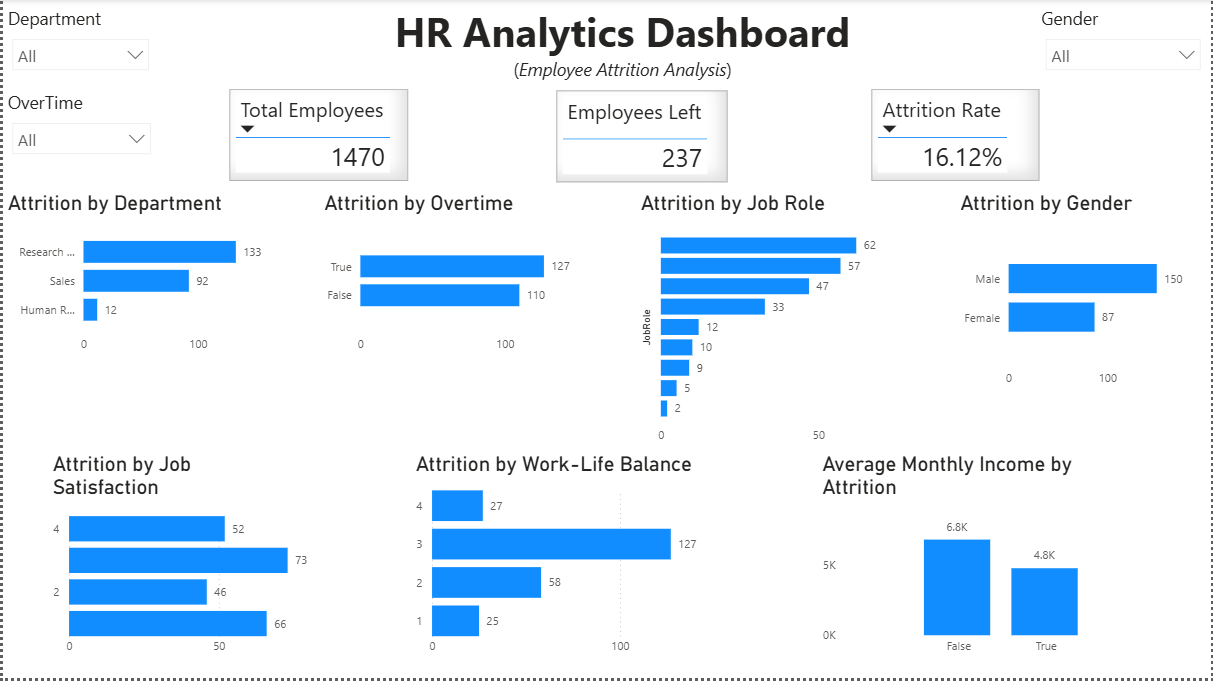

Layout of this report page (visuals, bound fields, positions):
{"tool":"powerbi","page":{"name":"Page 1","canvas":[1280,720],"ordinal":0},"visuals":[{"type":"tableEx","fields":{"Values":["EmployeeAttrition_Import.Total Employees"]},"box":[240.2,95.4,189.3,97],"z":0},{"type":"tableEx","fields":{"Values":["EmployeeAttrition_Import.Employees Left"]},"box":[586.9,97,181.3,97],"z":1000},{"type":"tableEx","fields":{"Values":["EmployeeAttrition_Import.Attrition Rate"]},"box":[921,95.4,178.1,97],"z":2000},{"type":"clusteredBarChart","title":"Attrition by Department","fields":{"Category":["EmployeeAttrition_Import.Department"],"Y":["EmployeeAttrition_Import.Employees Left"]},"box":[0,203.6,289.5,179.7],"z":3000},{"type":"clusteredBarChart","title":"Attrition by Overtime","fields":{"Category":["EmployeeAttrition_Import.OverTime"],"Y":["EmployeeAttrition_Import.Employees Left"]},"box":[335.6,203.6,287.9,179.7],"z":4000},{"type":"clusteredBarChart","title":"Attrition by Job Role","fields":{"Category":["EmployeeAttrition_Import.JobRole"],"Y":["EmployeeAttrition_Import.Employees Left"]},"box":[671.2,203.6,305.4,276.8],"z":5000},{"type":"clusteredBarChart","title":"Attrition by Job Satisfaction","fields":{"Y":["EmployeeAttrition_Import.Employees Left"],"Category":["EmployeeAttrition_Import.JobSatisfaction"]},"box":[48,480,288,224],"z":6000},{"type":"clusteredBarChart","title":"Attrition by Work-Life Balance","fields":{"Category":["EmployeeAttrition_Import.WorkLifeBalance"],"Y":["EmployeeAttrition_Import.Employees Left"]},"box":[432,480,336,224],"z":7000},{"type":"clusteredBarChart","title":"Attrition by Gender","fields":{"Category":["EmployeeAttrition_Import.Gender"],"Y":["EmployeeAttrition_Import.Employees Left"]},"box":[1010,203.6,256.1,216.3],"z":8000},{"type":"clusteredColumnChart","title":"Average Monthly Income by Attrition","fields":{"Category":["EmployeeAttrition_Import.Attrition"],"Y":["Avg(EmployeeAttrition_Import.MonthlyIncome)"]},"box":[864,480,368,224],"z":9000},{"type":"textbox","box":[408.8,0,496.3,95.4],"z":10000},{"type":"slicer","title":"Department","fields":{"Values":["EmployeeAttrition_Import.Department"]},"box":[0,8.7,164.7,79.7],"z":10001},{"type":"slicer","title":"Gender","fields":{"Values":["EmployeeAttrition_Import.Gender"]},"box":[1095.7,8.7,183.8,79.7],"z":10002},{"type":"slicer","title":"OverTime","fields":{"Values":["EmployeeAttrition_Import.OverTime"]},"box":[0,97.1,166.4,74.5],"z":10003}]}

Visuals, with their boxes in screenshot pixels (x1, y1, x2, y2), scaled from the page's 1280x720 canvas onto the 1213x682 screenshot:
tableEx - EmployeeAttrition_Import.Total Employees: left=228, top=90, right=407, bottom=182
tableEx - EmployeeAttrition_Import.Employees Left: left=556, top=92, right=728, bottom=184
tableEx - EmployeeAttrition_Import.Attrition Rate: left=873, top=90, right=1042, bottom=182
"Attrition by Department" clusteredBarChart: left=0, top=193, right=274, bottom=363
"Attrition by Overtime" clusteredBarChart: left=318, top=193, right=591, bottom=363
"Attrition by Job Role" clusteredBarChart: left=636, top=193, right=925, bottom=455
"Attrition by Job Satisfaction" clusteredBarChart: left=45, top=455, right=318, bottom=667
"Attrition by Work-Life Balance" clusteredBarChart: left=409, top=455, right=728, bottom=667
"Attrition by Gender" clusteredBarChart: left=957, top=193, right=1200, bottom=398
"Average Monthly Income by Attrition" clusteredColumnChart: left=819, top=455, right=1168, bottom=667
textbox: left=387, top=0, right=858, bottom=90
"Department" slicer: left=0, top=8, right=156, bottom=84
"Gender" slicer: left=1038, top=8, right=1212, bottom=84
"OverTime" slicer: left=0, top=92, right=158, bottom=163
